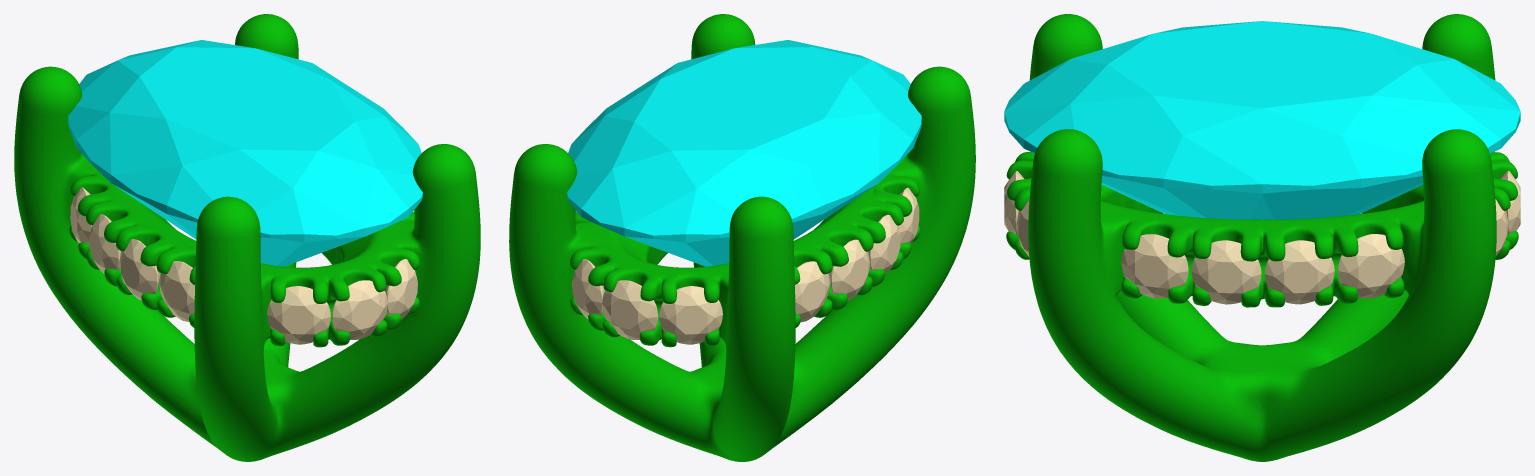
3 views of the same model, side by side, from view 1: azimuth 30°, elevation 25°; view 2: azimuth 150°, elevation 25°; view 3: azimuth 270°, elevation 25° (orthographic). The views are drawn at different scales.
Visible parts, largest first — view 1: Metal01, Diamond_Oval, Diamond_Round.002, Diamond_Round.001, Diamond_Round.013, Diamond_Round.012, Diamond_Round, Diamond_Round.011, Diamond_Round.010; view 2: Metal01, Diamond_Oval, Diamond_Round.003, Diamond_Round.004, Diamond_Round.010, Diamond_Round.011, Diamond_Round.005, Diamond_Round.012, Diamond_Round.013; view 3: Metal01, Diamond_Oval, Diamond_Round.007, Diamond_Round.008, Diamond_Round.006, Diamond_Round.009, Diamond_Round.004, Diamond_Round.001.
Part boxes in pixels (x1,y1,x2,y2): Metal01: (14, 14, 480, 461); Diamond_Oval: (68, 40, 422, 266); Diamond_Round.002: (267, 286, 330, 344); Diamond_Round.001: (331, 280, 387, 339); Diamond_Round.013: (159, 261, 194, 321); Diamond_Round.012: (119, 239, 160, 300); Diamond_Round: (385, 259, 417, 319); Diamond_Round.011: (89, 214, 120, 273); Diamond_Round.010: (70, 187, 91, 243); Metal01: (509, 14, 975, 461); Diamond_Oval: (567, 40, 921, 266); Diamond_Round.003: (659, 286, 722, 344); Diamond_Round.004: (602, 280, 658, 339); Diamond_Round.010: (795, 261, 829, 322); Diamond_Round.011: (828, 239, 869, 300); Diamond_Round.005: (572, 259, 605, 319); Diamond_Round.012: (868, 214, 900, 274); Diamond_Round.013: (897, 187, 919, 244); Metal01: (1006, 14, 1518, 461); Diamond_Oval: (1004, 21, 1520, 219); Diamond_Round.007: (1191, 240, 1261, 304); Diamond_Round.008: (1264, 240, 1334, 304); Diamond_Round.006: (1121, 234, 1188, 298); Diamond_Round.009: (1337, 234, 1404, 298); Diamond_Round.004: (1500, 171, 1520, 234); Diamond_Round.001: (1004, 171, 1024, 234).
Size of the model in its own units: 5 by 6.18 by 7.38.
